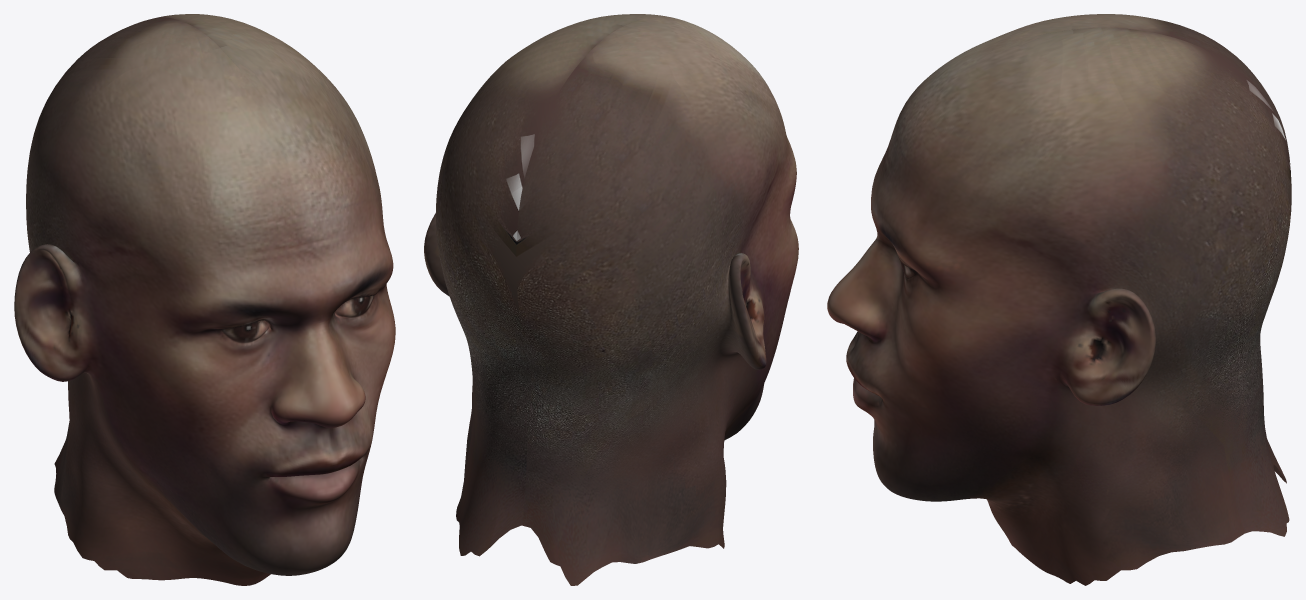
The model's file is michael_jordan_head_99.glb.
3 renders of one model, left to right at view 1: azimuth 30°, elevation 25°; view 2: azimuth 150°, elevation 25°; view 3: azimuth 270°, elevation 25°, orthographic. The views are drawn at different scales.
Parts seen in each view (by area): view 1: Object_2; view 2: Object_2; view 3: Object_2.
Boxes of the visible parts, left/top/right/bottom form: Object_2: left=14, top=14, right=395, bottom=585; Object_2: left=424, top=14, right=798, bottom=585; Object_2: left=827, top=14, right=1291, bottom=585.
Bounding box in the file's own units: 1.78 × 2.62 × 2.14.
1 material, 1 textured.
